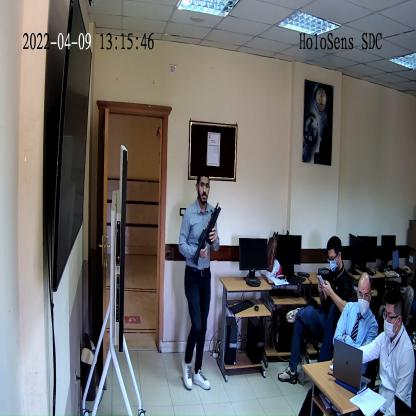handgun: (192, 207, 221, 266)
